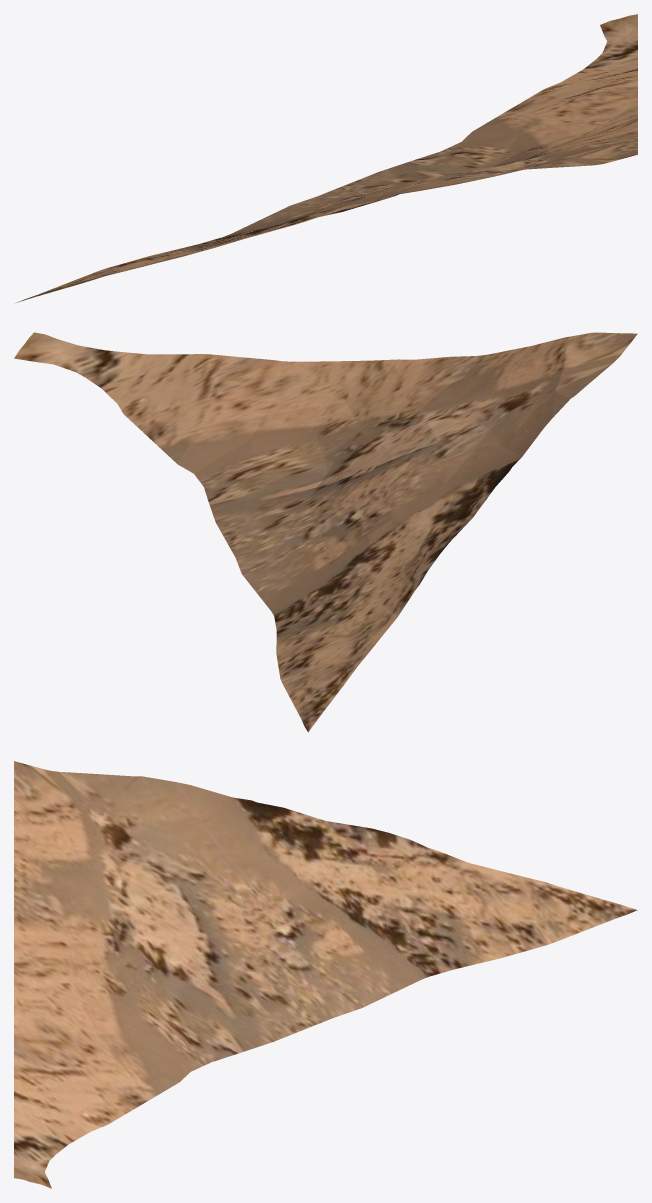
3 renders of one model, top to bottom at view 1: azimuth 90°, elevation 25°; view 2: azimuth 150°, elevation 25°; view 3: azimuth 270°, elevation 25°, orthographic. The views are drawn at different scales.
Size of the model in its own units: 1.04 by 0.2604 by 0.988.
Materials: 1 (1 with a texture image).
